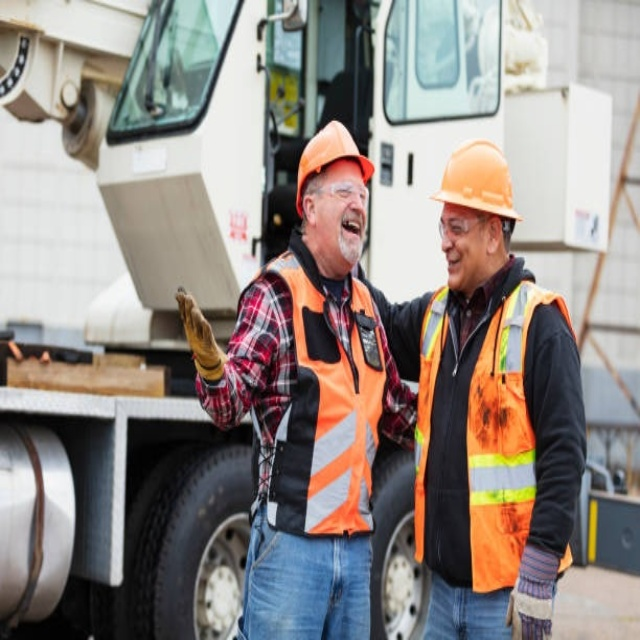Gafas: (310, 182, 370, 206), (438, 215, 491, 241)
Guantes: (506, 542, 560, 640), (177, 287, 226, 379)
Sin_mascara: (333, 216, 366, 253), (443, 245, 470, 289)
